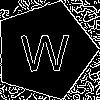W: (20, 25, 70, 71)
